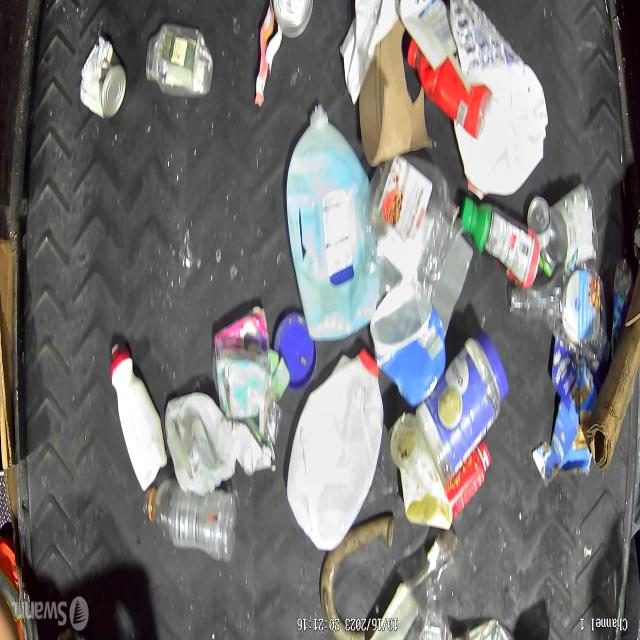can: (78, 34, 126, 119), (526, 195, 552, 248)
milk_jug: (286, 348, 384, 553), (452, 66, 548, 200)
non_white_jug: (284, 104, 378, 342)
plastic_bottle: (509, 266, 607, 361), (142, 478, 237, 562)
